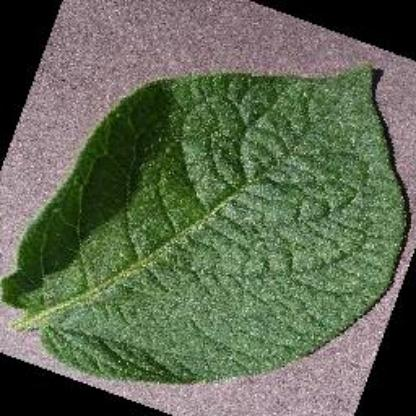Healthy-plant: (6, 57, 416, 387)
